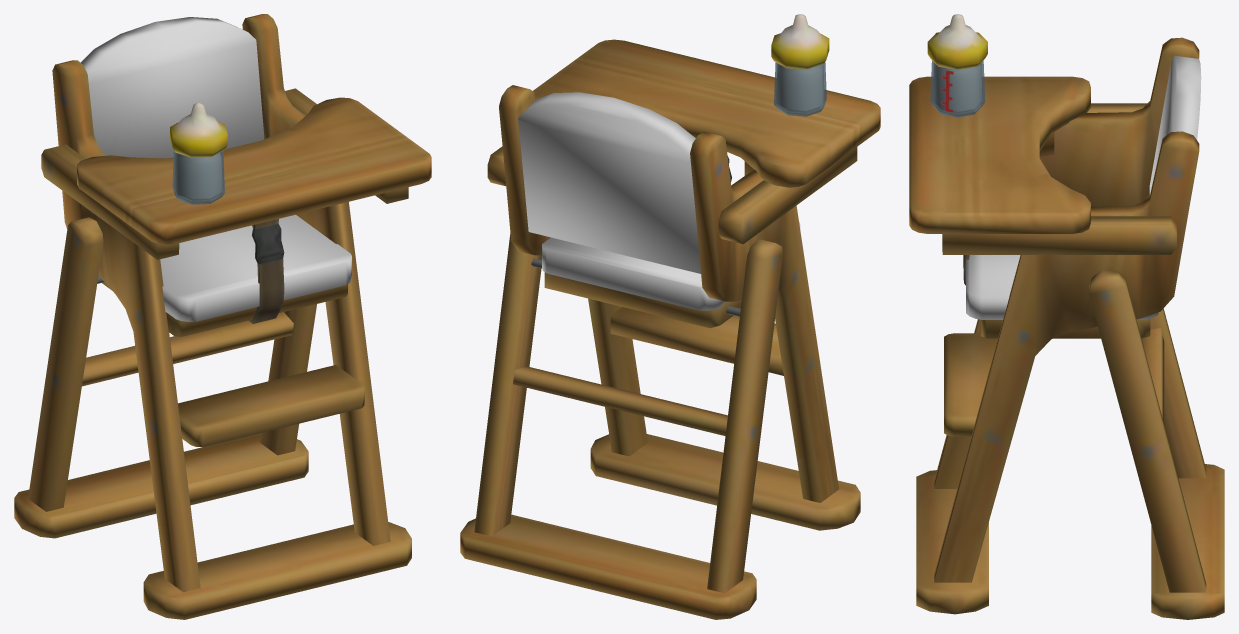
3 views of the same model, side by side, from view 1: azimuth 30°, elevation 25°; view 2: azimuth 150°, elevation 25°; view 3: azimuth 270°, elevation 25° (orthographic).
Bounding box in the file's own units: 7.14 × 12.06 × 6.91.
Materials: 4 (3 with a texture image).
